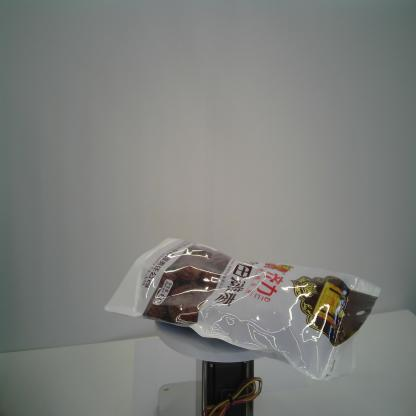Dried Food: (100, 233, 383, 384)
